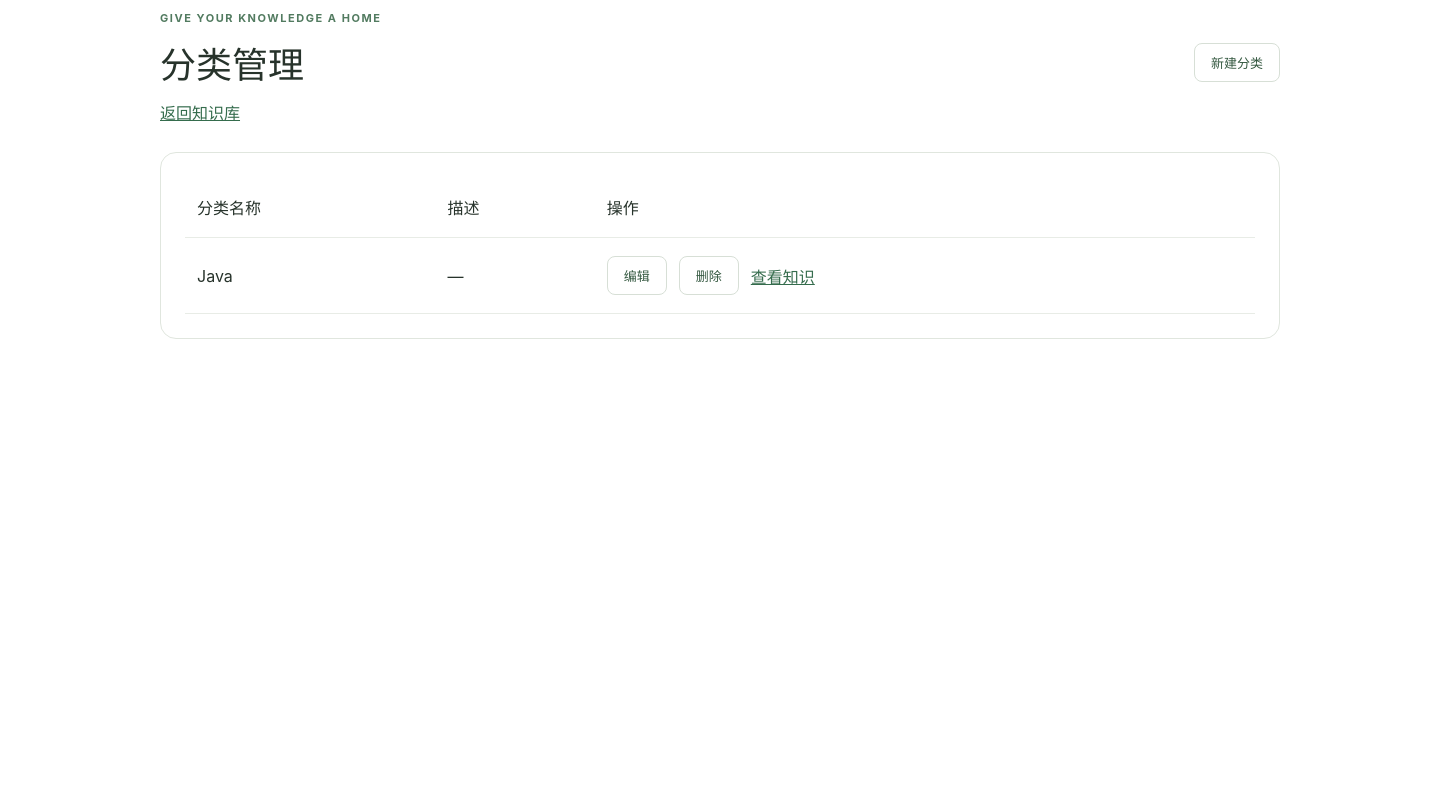
Scenario: retains a category conflict for correction and reports in-use deletion errors
Click the button "新建分类" at (1237, 62), box 1194,42 -> 1280,82
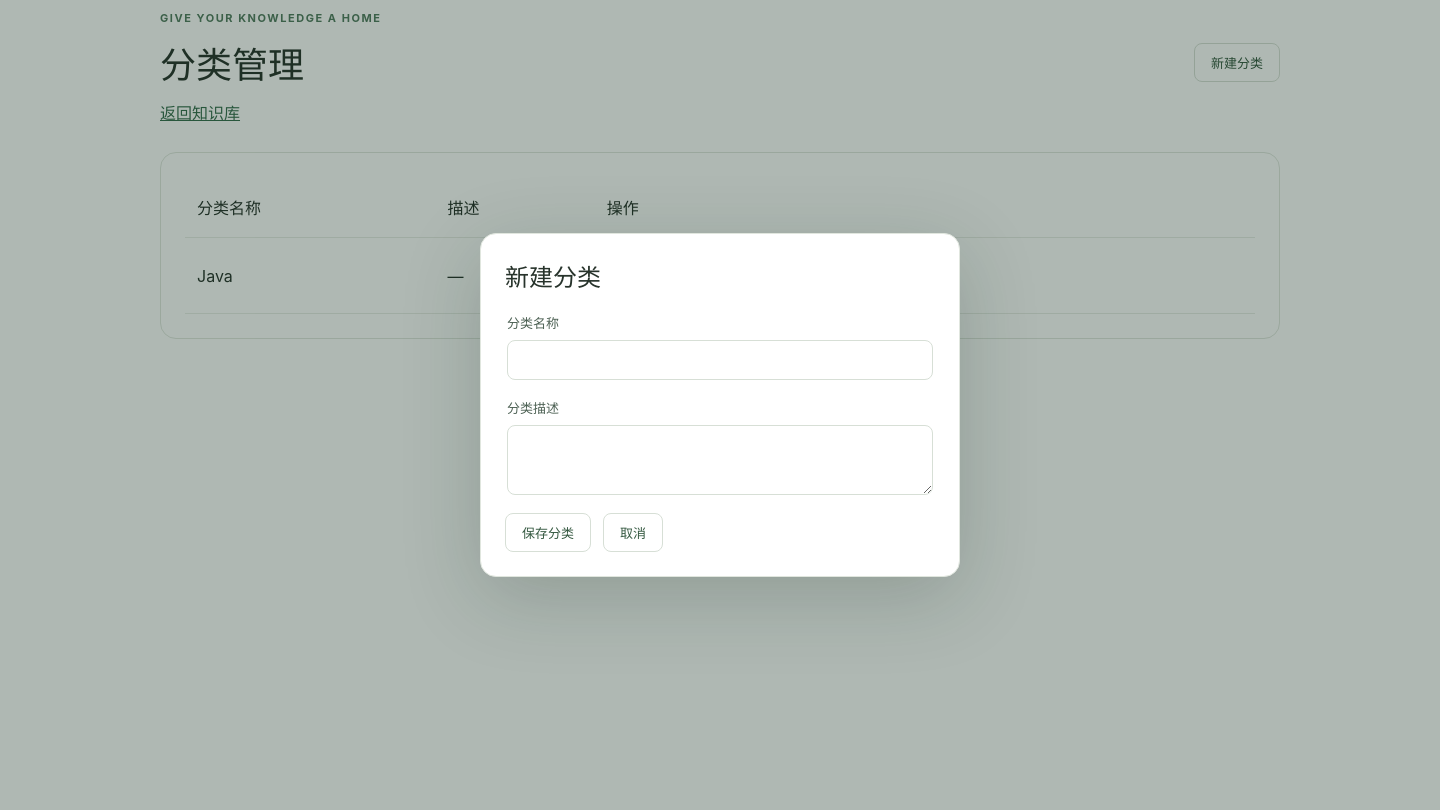
Type "Java" into the field named "name" at (720, 360), box 507,340 -> 933,380
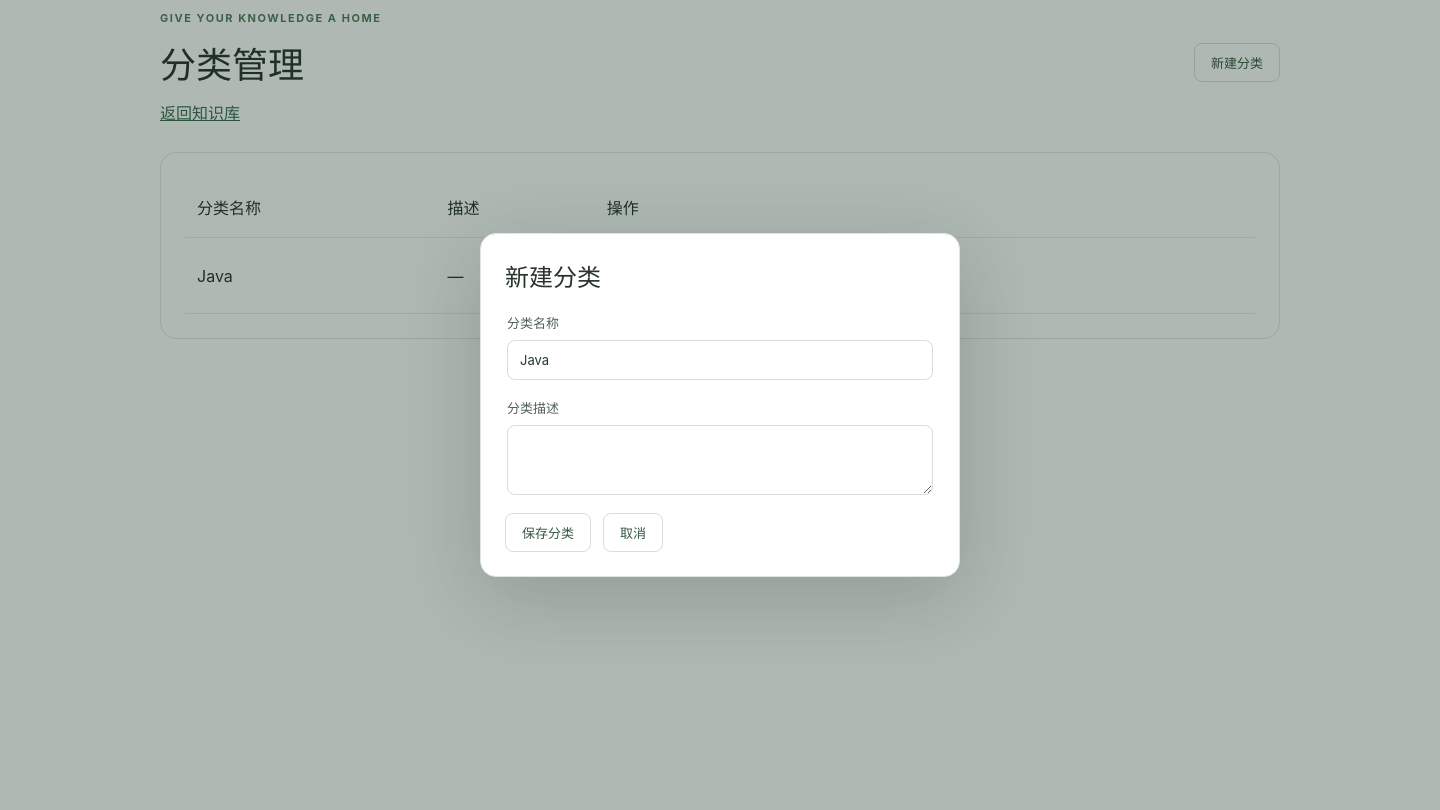
Submit the form, box 505,313 -> 935,552
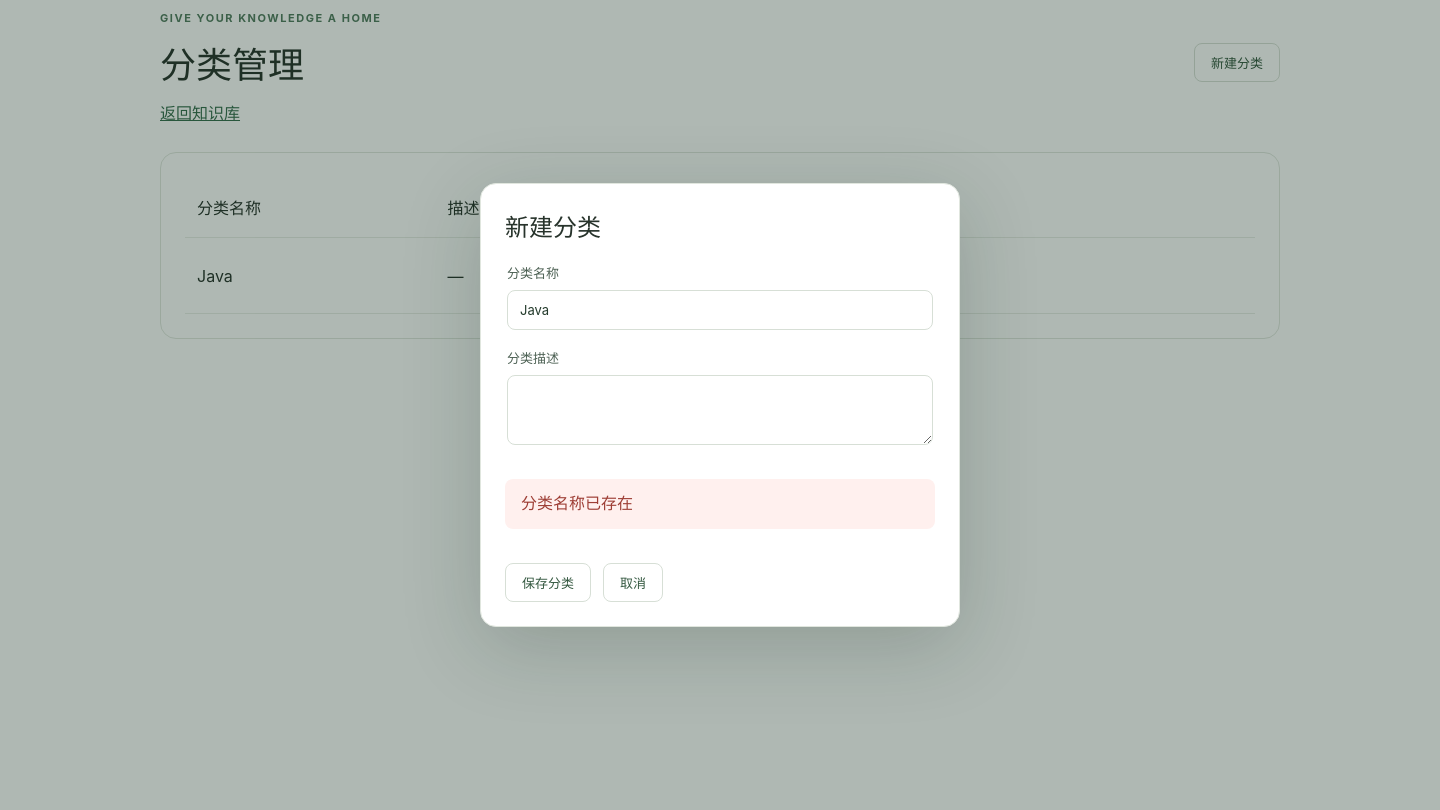
Expected: the dialog shows "分类名称已存在", 521,493 -> 633,513
Replace the text in the field named "name" with "数据库" at (720, 310), box 507,290 -> 933,330
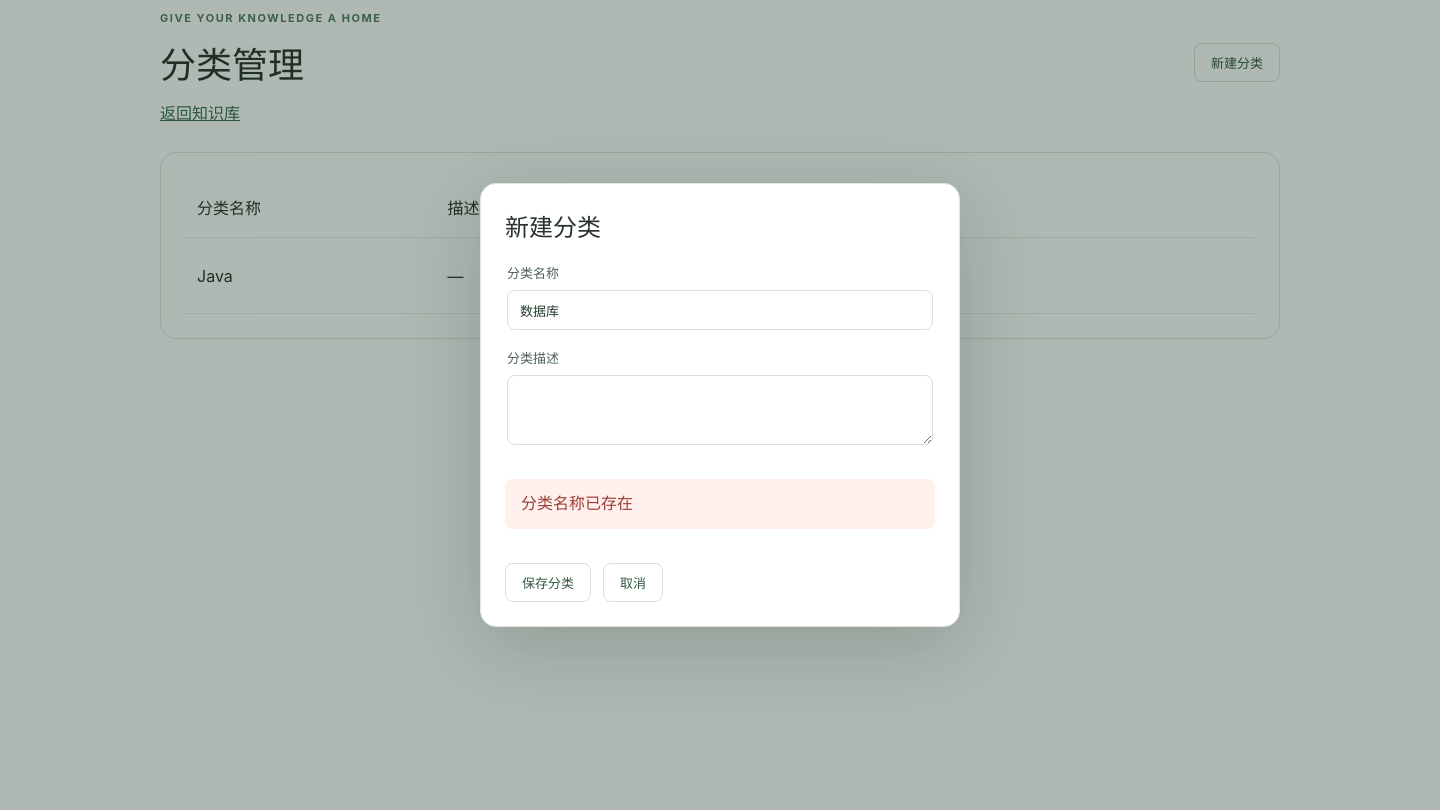
Submit the form, box 505,263 -> 935,602
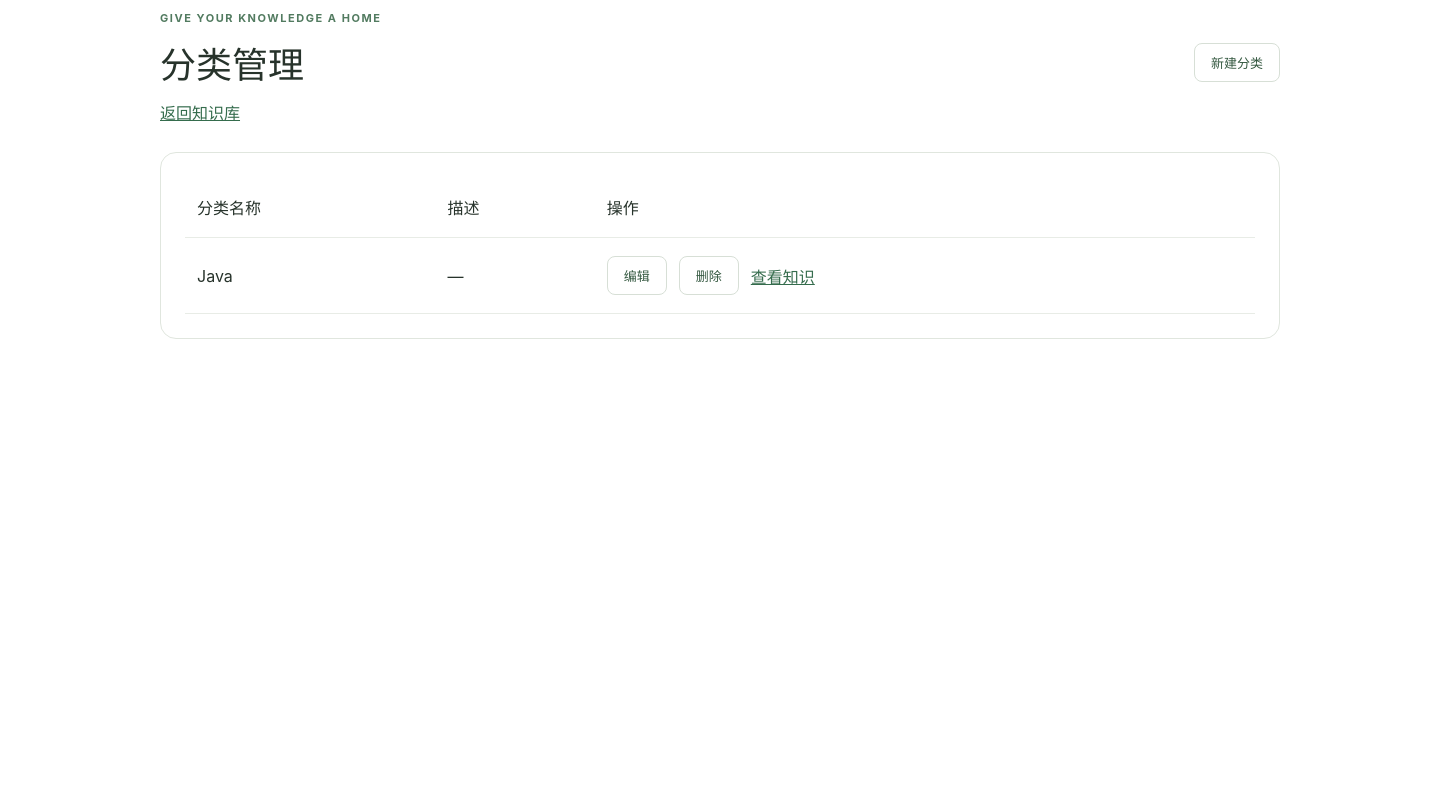
Click the button "删除" at (709, 276), box 679,256 -> 739,295
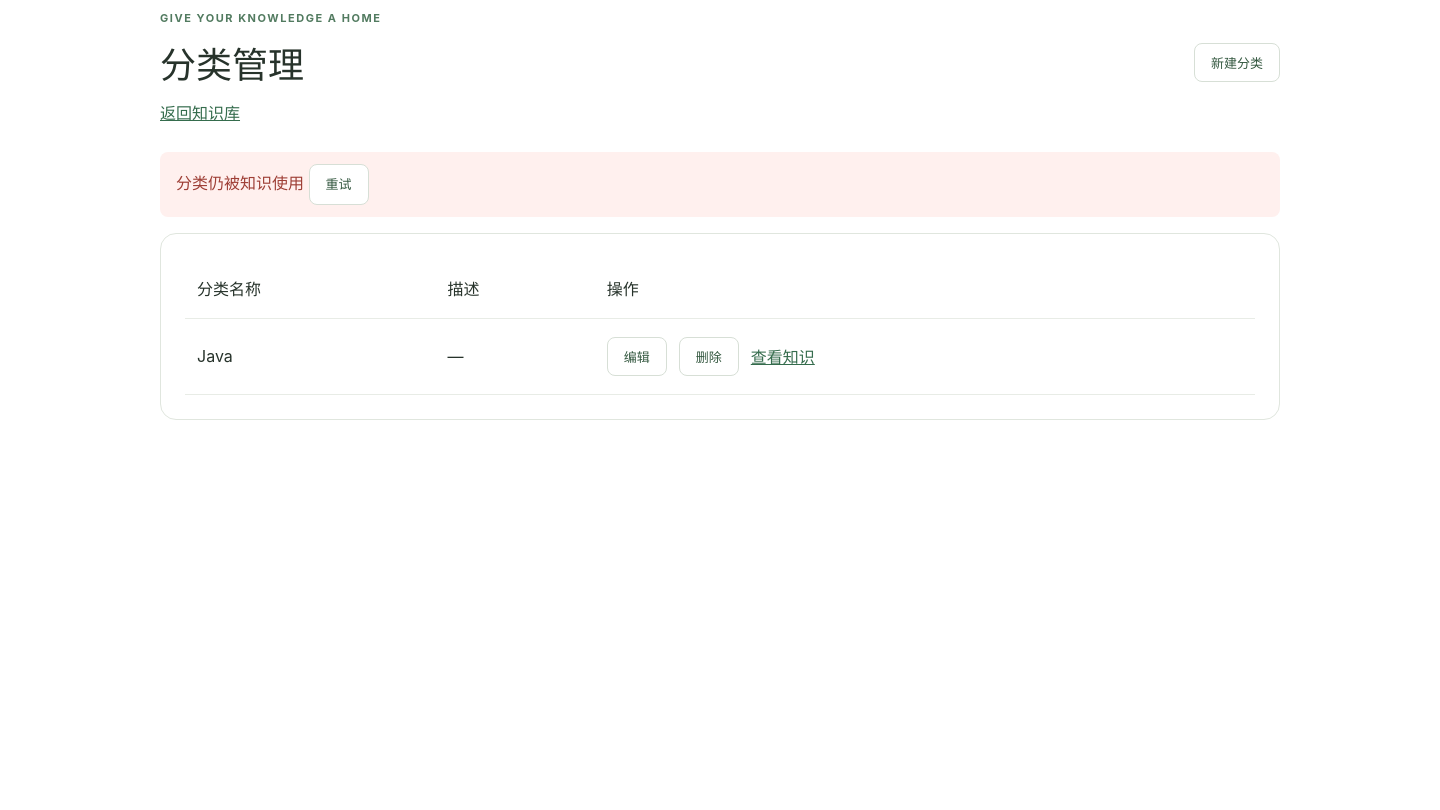
Expected: the text "Java" is shown, 185,318 -> 435,394
Expected: the text "分类仍被知识使用" is shown, 176,173 -> 308,193
